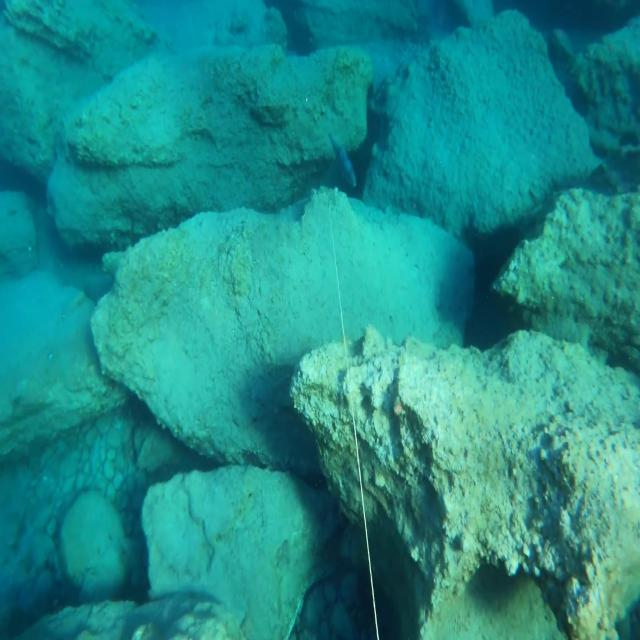Balon Baligi: (326, 127, 356, 187)
